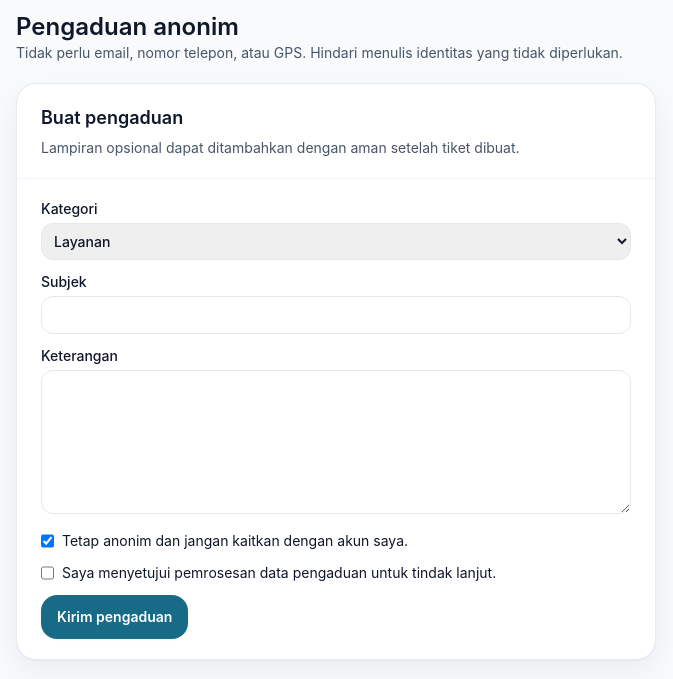
Test: anonymous complaint requires consent without contact identity and shows tracking secret once
Select "Privasi" in the dropdown labelled "Kategori" at {"x": 336, "y": 242}, box x1=41 y1=223 x2=631 y2=260
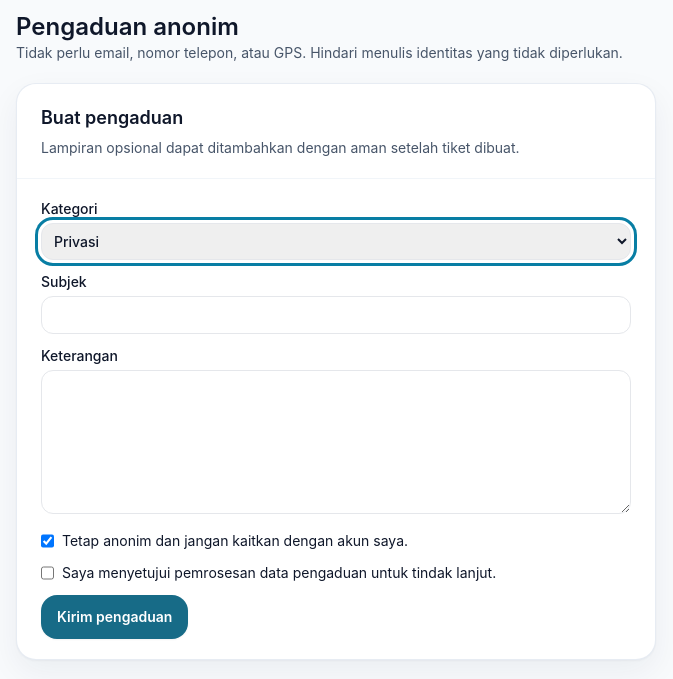
Type "Privasi DATA UJI" into the field labelled "Subjek".
click(336, 315); type("Privasi DATA UJI")  # box x1=41 y1=296 x2=631 y2=334
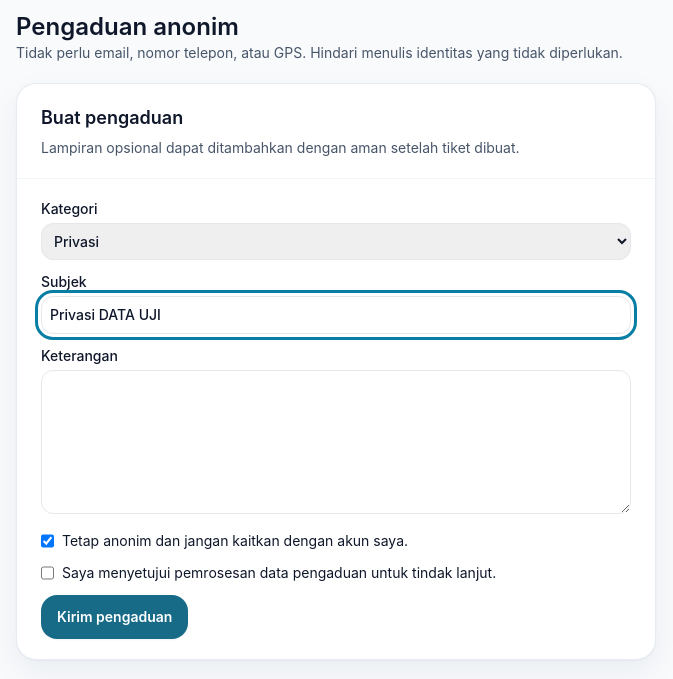
Type "Keterangan pengaduan sintetis" into the text box labelled "Keterangan".
click(336, 442); type("Keterangan pengaduan sintetis")  # box x1=41 y1=370 x2=631 y2=514
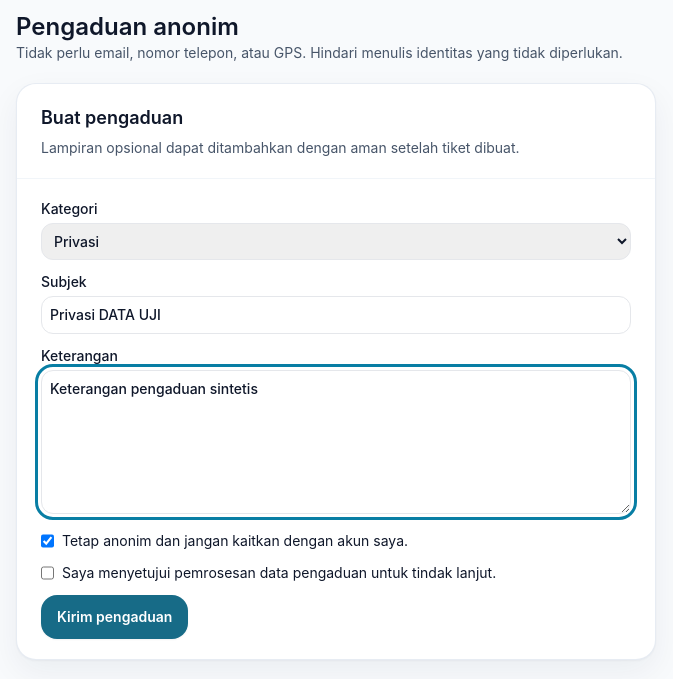
Click the 2nd checkbox.
click(48, 573)  # box x1=41 y1=563 x2=54 y2=583
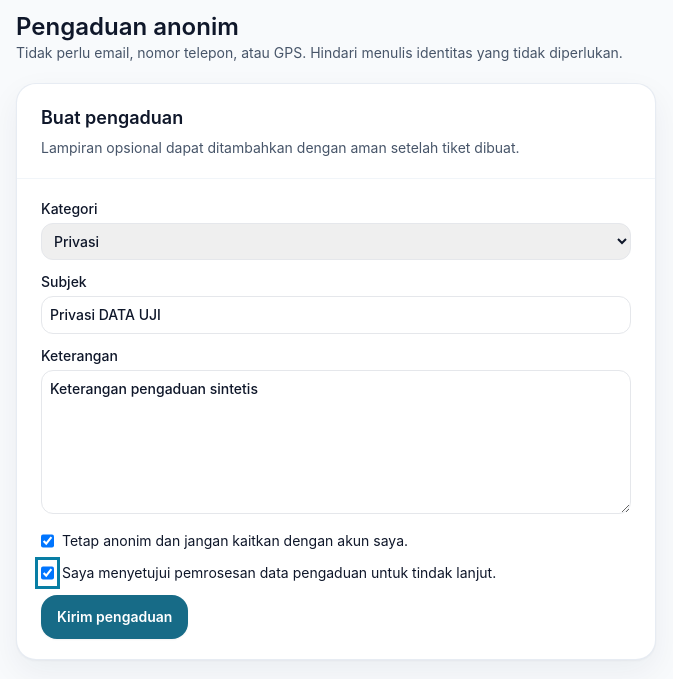
Click the button "Kirim pengaduan".
click(115, 617)  # box x1=41 y1=595 x2=188 y2=639
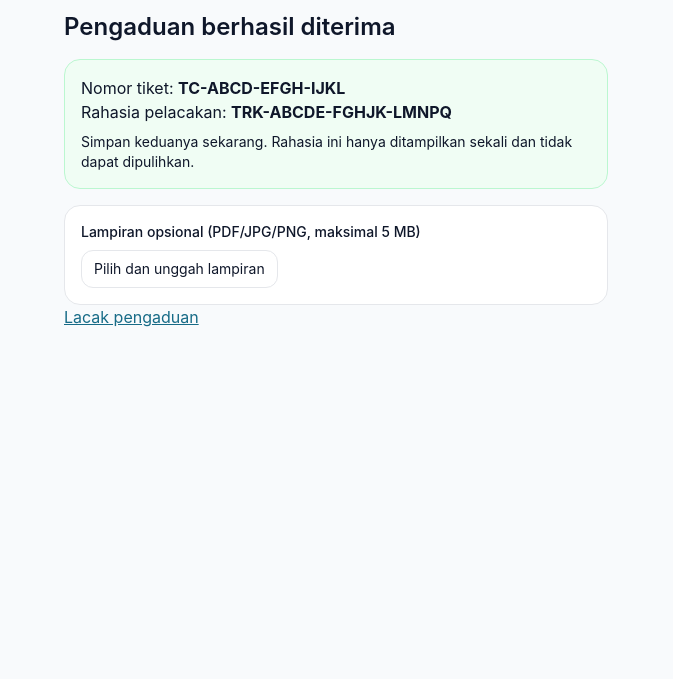
Expected: the text "TRK-ABCDE-FGHJK-LMNPQ" is shown, x1=231 y1=102 x2=452 y2=122
